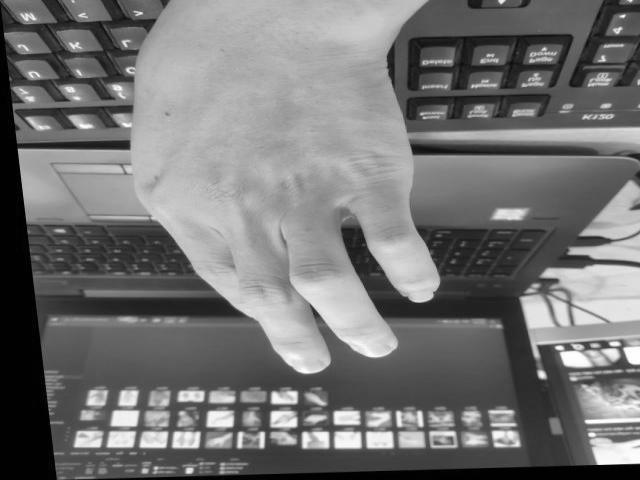not-gloved: (129, 0, 440, 373)
